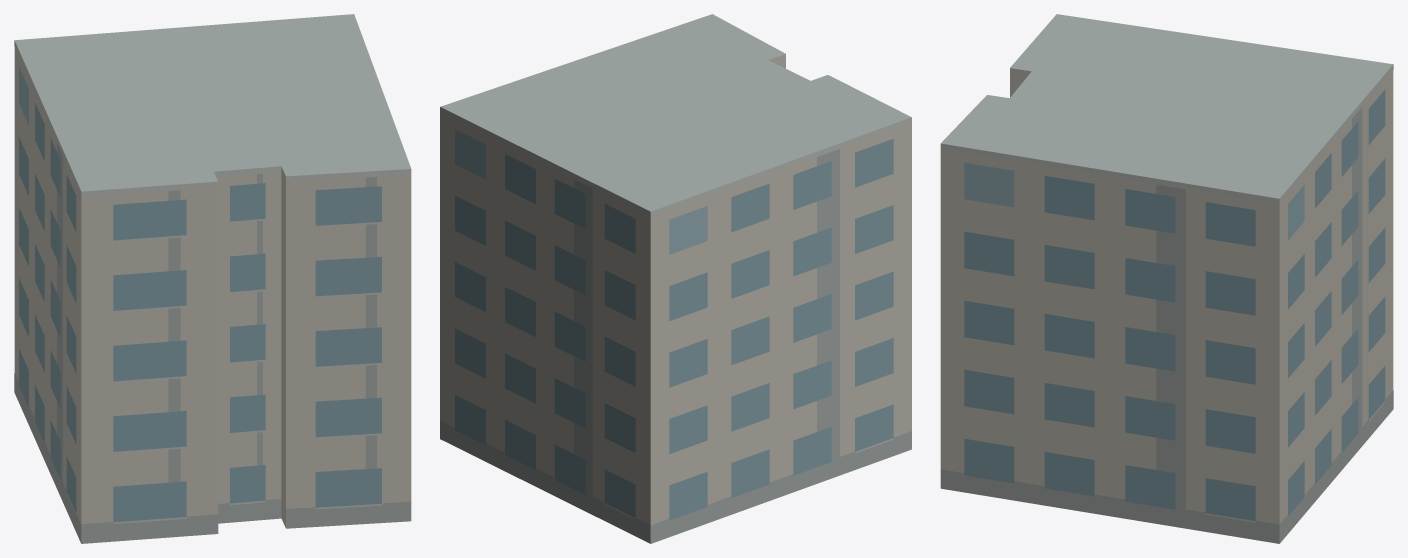
Rendered from survey-upis-32990502.glb.
3 renders of one model, left to right at view 1: azimuth 30°, elevation 25°; view 2: azimuth 150°, elevation 25°; view 3: azimuth 270°, elevation 25°, orthographic. The views are drawn at different scales.
Visible parts, largest first — view 1: survey-upis-32990502.tmp; view 2: survey-upis-32990502.tmp; view 3: survey-upis-32990502.tmp.
Boxes of the visible parts, bbox=[...] form: survey-upis-32990502.tmp: bbox=[14, 14, 411, 543]; survey-upis-32990502.tmp: bbox=[440, 14, 911, 543]; survey-upis-32990502.tmp: bbox=[940, 14, 1393, 543].
Size of the model in its own units: 16.72 by 14.55 by 17.31.
